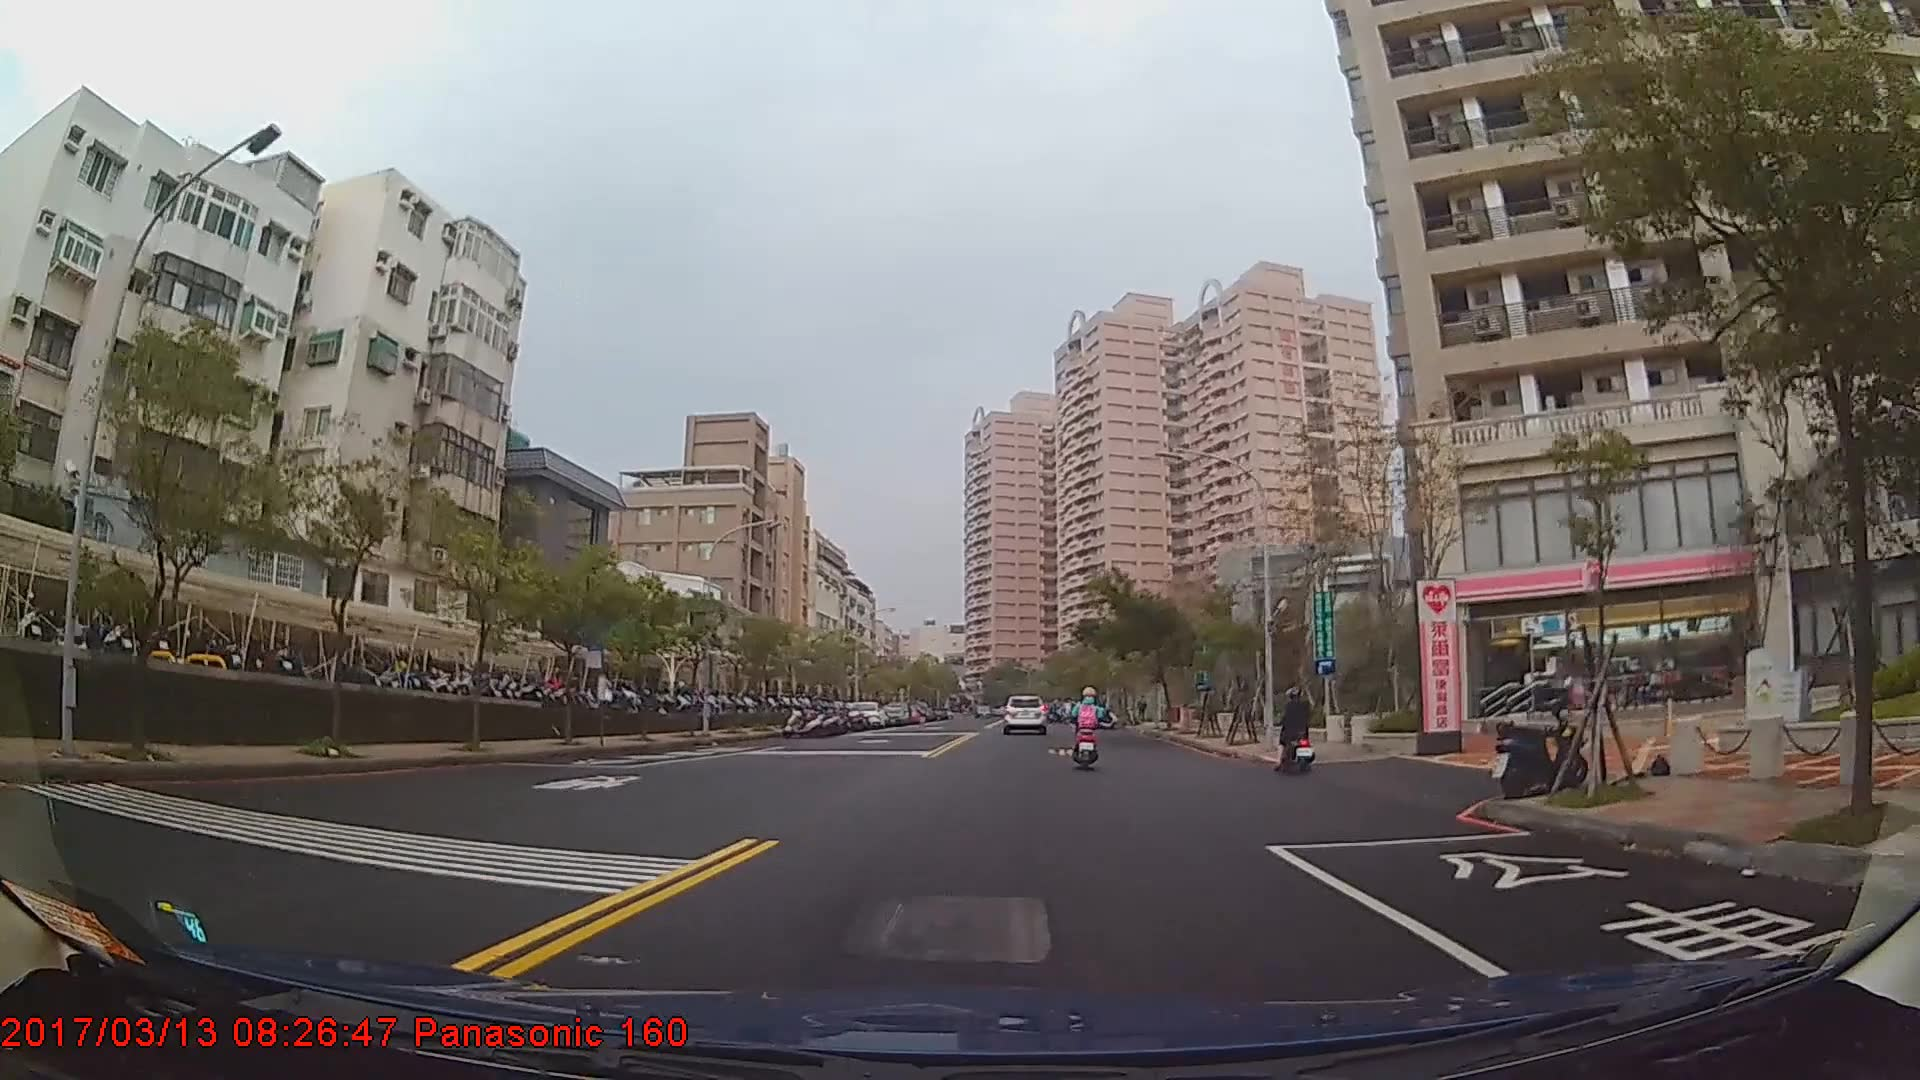rider: (1274, 687, 1318, 772), (1068, 688, 1107, 769)
vehicle: (998, 692, 1049, 736), (846, 700, 883, 727)
